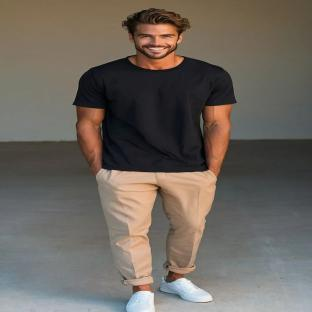Human: (72, 8, 236, 312)
